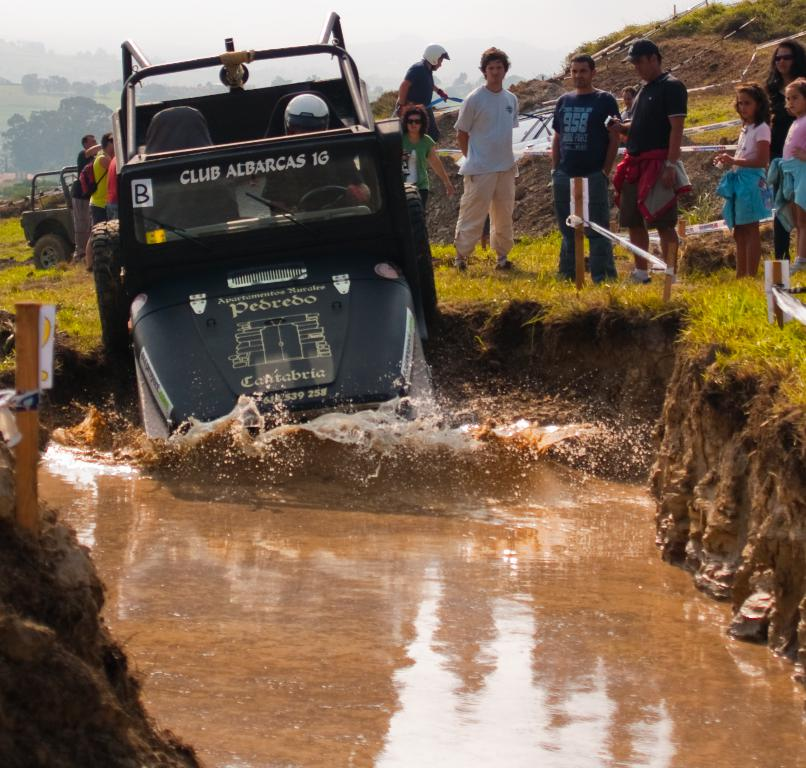cars: (84, 9, 437, 451), (18, 163, 79, 271)
